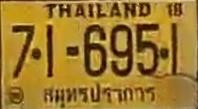1: (170, 22, 178, 75), (46, 24, 53, 77)
5: (135, 22, 159, 75)
6: (83, 24, 107, 77)
7: (11, 24, 34, 77)
9: (109, 23, 134, 77)
SPK: (39, 81, 158, 109)
